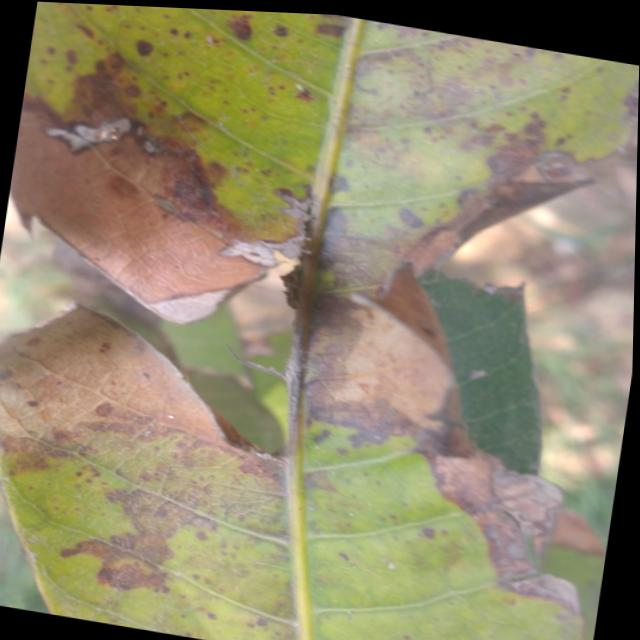Anthracnose: (89, 521, 189, 597)
Bacterial Cancer: (0, 280, 147, 419), (494, 467, 573, 598)
Powdery Mildew: (144, 286, 233, 330), (52, 115, 137, 156), (229, 232, 305, 268)
